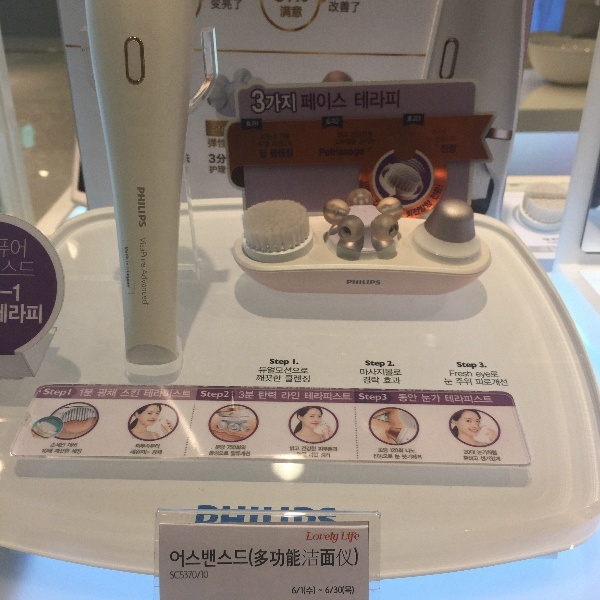text: (417, 198, 433, 225), (257, 88, 272, 115), (273, 88, 288, 115), (385, 89, 401, 111), (17, 303, 32, 326), (369, 89, 384, 111), (1, 303, 16, 324), (177, 549, 192, 570), (193, 549, 208, 570), (209, 549, 224, 570), (225, 549, 240, 570), (257, 547, 272, 568), (273, 547, 288, 568), (289, 547, 304, 568), (305, 547, 320, 568), (321, 547, 336, 568), (337, 547, 352, 568), (305, 91, 320, 112), (321, 91, 336, 112), (354, 89, 368, 111), (1, 283, 16, 303), (209, 505, 224, 525), (225, 505, 240, 525), (241, 505, 256, 525), (257, 505, 272, 525), (273, 505, 288, 525), (289, 505, 304, 525), (305, 505, 320, 525), (321, 505, 336, 525), (405, 198, 416, 225), (137, 187, 144, 228), (17, 260, 32, 278), (337, 91, 348, 112), (33, 303, 43, 326), (17, 237, 27, 259), (437, 183, 448, 203), (289, 88, 297, 115), (289, 4, 303, 19), (198, 505, 208, 525), (5, 260, 16, 278), (337, 1, 352, 14), (321, 532, 336, 544), (209, 164, 224, 176), (209, 153, 224, 165), (241, 549, 249, 570), (49, 388, 64, 399), (369, 392, 384, 403), (225, 1, 240, 12), (321, 147, 336, 158), (337, 147, 352, 158), (273, 148, 288, 159), (193, 570, 209, 580), (307, 532, 320, 544), (210, 1, 224, 12), (209, 390, 224, 400), (177, 570, 192, 580), (305, 586, 320, 596), (321, 586, 336, 596), (337, 586, 352, 596), (209, 138, 224, 148), (145, 268, 149, 305), (249, 547, 256, 568), (342, 531, 352, 545), (370, 188, 384, 198), (10, 303, 16, 326), (161, 389, 176, 398), (305, 392, 320, 401), (321, 392, 336, 401), (337, 392, 352, 401), (401, 394, 416, 403), (449, 395, 464, 404), (465, 395, 480, 404), (273, 358, 288, 367), (257, 374, 272, 383), (369, 368, 384, 377), (385, 368, 400, 377), (385, 376, 400, 385), (481, 378, 496, 387), (279, 4, 288, 19), (251, 88, 256, 115), (273, 131, 288, 140), (273, 139, 288, 148), (353, 147, 365, 158), (99, 388, 112, 398), (259, 391, 272, 401), (259, 149, 272, 159), (140, 237, 144, 269), (81, 388, 95, 397), (146, 389, 160, 398), (177, 389, 191, 398), (170, 549, 176, 570), (353, 547, 359, 568), (545, 237, 559, 246), (129, 388, 141, 398), (273, 367, 288, 375), (289, 367, 304, 375), (289, 375, 304, 383), (369, 360, 384, 368), (465, 362, 480, 370), (433, 136, 448, 144), (353, 131, 368, 139), (241, 391, 254, 400), (481, 395, 494, 404), (353, 1, 362, 14), (259, 139, 272, 148), (145, 443, 161, 450), (258, 367, 272, 375), (450, 370, 464, 378), (338, 131, 352, 139), (141, 268, 144, 305), (11, 237, 16, 259), (289, 391, 300, 401), (421, 394, 432, 404), (293, 586, 304, 596), (497, 378, 509, 387), (260, 131, 272, 140), (433, 128, 448, 135), (337, 138, 352, 145), (353, 138, 368, 145), (328, 1, 336, 14), (359, 392, 368, 403), (289, 358, 300, 367), (369, 376, 380, 385), (213, 124, 224, 133), (210, 450, 224, 457), (353, 531, 360, 545), (145, 237, 148, 269), (433, 394, 442, 404), (481, 450, 496, 456), (481, 456, 496, 462), (321, 446, 336, 452), (321, 452, 336, 458), (353, 280, 368, 286), (65, 388, 73, 399), (385, 360, 396, 368), (402, 454, 416, 460), (300, 91, 304, 112), (145, 187, 147, 228), (273, 374, 282, 383), (455, 378, 464, 387), (17, 283, 21, 303), (246, 120, 256, 128), (326, 118, 336, 126), (440, 144, 448, 154), (449, 144, 457, 154), (376, 198, 384, 208), (227, 445, 240, 451), (241, 386, 256, 391), (257, 386, 272, 391), (273, 386, 288, 391), (289, 386, 304, 391), (305, 386, 320, 391), (321, 386, 336, 391), (401, 389, 416, 394), (417, 389, 432, 394), (433, 389, 448, 394), (449, 389, 464, 394), (465, 389, 480, 394), (81, 383, 96, 388), (97, 383, 112, 388), (113, 383, 128, 388), (129, 383, 144, 388), (145, 383, 160, 388), (161, 383, 176, 388), (177, 383, 192, 388), (132, 449, 144, 455), (52, 442, 64, 448), (305, 446, 317, 452), (360, 368, 368, 377), (465, 378, 473, 387), (407, 115, 416, 123), (369, 280, 381, 286), (186, 153, 192, 165), (201, 390, 208, 400), (465, 456, 479, 461), (290, 446, 304, 451), (481, 372, 491, 379), (337, 386, 351, 391), (465, 450, 476, 456), (373, 454, 384, 460), (69, 442, 80, 448), (309, 452, 320, 458), (456, 362, 464, 370), (465, 370, 473, 378), (449, 136, 457, 144), (113, 388, 119, 398), (282, 391, 288, 401), (390, 448, 400, 454), (241, 451, 251, 457), (136, 443, 144, 450), (481, 362, 488, 370), (425, 136, 432, 144), (405, 448, 416, 453), (289, 148, 294, 159), (33, 260, 36, 278), (385, 454, 394, 460), (231, 451, 240, 457), (171, 570, 176, 580), (369, 138, 376, 145), (216, 445, 224, 451), (56, 449, 64, 455), (363, 376, 368, 385), (449, 377, 454, 386), (475, 378, 480, 387), (289, 1, 304, 4), (481, 389, 490, 394), (126, 267, 128, 289), (153, 450, 160, 456), (73, 449, 80, 455), (297, 452, 304, 458), (125, 247, 128, 261), (362, 181, 368, 188), (225, 390, 229, 400), (273, 391, 277, 401), (305, 367, 310, 375), (305, 375, 310, 383), (417, 115, 422, 123), (275, 1, 288, 4), (417, 454, 423, 460), (241, 445, 247, 451), (145, 449, 151, 455), (65, 449, 71, 455), (337, 532, 340, 544), (490, 371, 496, 377), (444, 377, 448, 386), (289, 139, 293, 148), (540, 237, 544, 246), (475, 372, 480, 379), (73, 383, 80, 388), (369, 146, 374, 153), (385, 392, 388, 403), (269, 148, 272, 159), (369, 131, 373, 139), (395, 454, 400, 460), (43, 448, 48, 454), (49, 448, 54, 454), (358, 388, 368, 391), (347, 280, 352, 286), (225, 450, 229, 457), (397, 394, 400, 403), (445, 395, 448, 404), (289, 131, 292, 140), (379, 448, 384, 453), (497, 456, 501, 462), (285, 375, 288, 383), (365, 360, 368, 368), (337, 118, 340, 126), (225, 385, 231, 389), (225, 153, 227, 165), (46, 388, 48, 399), (129, 267, 130, 289), (241, 1, 243, 12), (126, 388, 128, 398), (385, 448, 389, 453), (353, 586, 355, 596), (477, 450, 480, 456), (401, 448, 404, 454), (301, 446, 304, 452), (270, 358, 272, 367), (401, 368, 403, 377), (497, 371, 500, 377), (202, 385, 208, 388), (257, 120, 259, 128), (397, 389, 400, 394), (129, 247, 130, 261), (161, 450, 163, 456), (65, 442, 67, 448), (81, 449, 83, 455), (318, 446, 320, 452), (305, 452, 307, 458), (305, 1, 309, 4), (380, 388, 384, 391), (225, 164, 226, 176), (319, 147, 320, 158), (207, 138, 208, 148), (225, 138, 226, 148), (239, 391, 240, 400), (417, 394, 418, 403), (401, 376, 402, 385), (225, 124, 226, 133), (126, 262, 128, 266), (369, 181, 370, 188), (335, 138, 336, 145), (463, 450, 464, 456), (497, 450, 498, 456), (225, 445, 226, 451), (337, 446, 338, 452), (463, 456, 464, 461), (129, 262, 130, 266), (385, 388, 386, 391)
